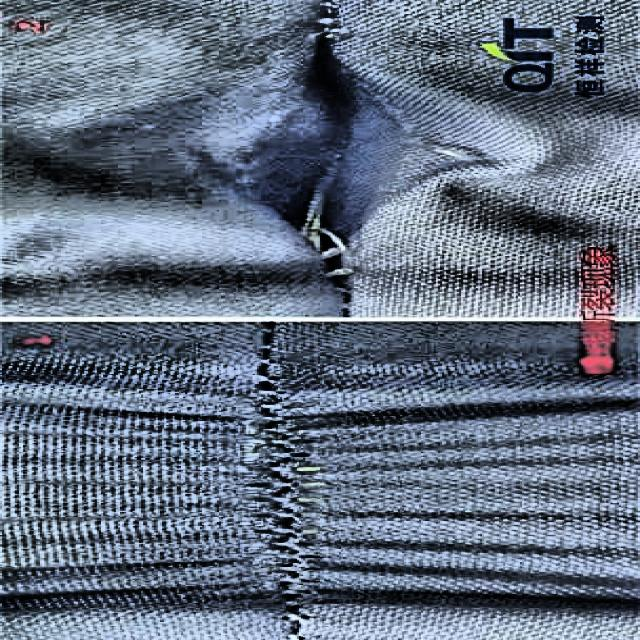seam: (168, 29, 506, 271), (231, 389, 355, 629)
